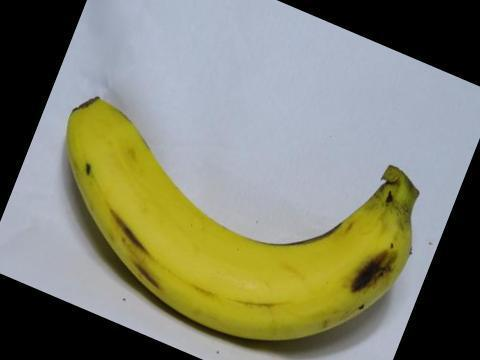freshripe: (48, 83, 437, 358)
